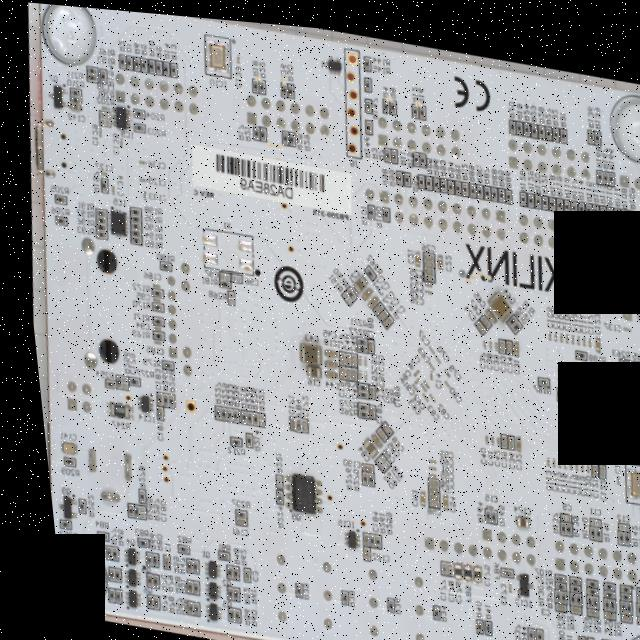-component text- -PE9AH FDS 9926A-: (284, 475, 302, 504)
-component text- R005: (104, 402, 116, 412)
-ferrite bead- FB4: (285, 411, 292, 425)
-ferrite bead- FB5: (448, 551, 461, 575)
-ferrite bead- FB6: (489, 559, 499, 567)
-test point- J11: (175, 395, 188, 410)
2000: (357, 465, 363, 478)
2001: (352, 465, 358, 477)
2002: (120, 374, 130, 382)
2003: (127, 486, 134, 499)
2004: (546, 580, 553, 593)
2005: (535, 114, 542, 126)
2006: (556, 582, 563, 594)
2007: (573, 584, 580, 596)
2008: (596, 588, 603, 600)
2009: (612, 589, 619, 602)
2010: (623, 591, 629, 603)
2016: (285, 126, 291, 138)
2024: (381, 140, 387, 153)
2025: (285, 79, 291, 91)
2031: (557, 118, 563, 130)
2033: (549, 116, 556, 129)
2036: (587, 629, 593, 640)
2041: (419, 598, 425, 610)
2045: (565, 626, 572, 638)
2052: (374, 592, 380, 604)
2061: (514, 619, 520, 631)
2066: (328, 585, 334, 598)
2072: (282, 579, 288, 591)
2080: (380, 92, 386, 104)
2081: (463, 612, 469, 624)
2090: (471, 613, 477, 625)
2100: (573, 626, 580, 639)
2111: (593, 630, 599, 640)
2117: (522, 619, 528, 632)
2137: (179, 556, 185, 569)
2145: (214, 562, 220, 574)
2156: (138, 55, 144, 67)
2161: (179, 578, 185, 590)
2170: (214, 583, 220, 595)
2183: (180, 599, 186, 612)
2185: (214, 604, 220, 616)
2186: (174, 598, 180, 611)
2187: (173, 577, 179, 589)
2188: (173, 555, 179, 568)
2189: (132, 54, 138, 66)
2190: (220, 605, 226, 617)
2191: (220, 584, 226, 596)
2192: (219, 563, 225, 575)
2195: (98, 545, 105, 557)
2196: (132, 550, 139, 563)
2199: (101, 566, 107, 579)
2200: (387, 141, 393, 154)
2201: (133, 571, 140, 584)
2204: (101, 588, 108, 600)
2205: (133, 592, 140, 605)
2206: (94, 587, 101, 599)
2207: (95, 565, 101, 578)
2208: (92, 544, 99, 557)
2209: (139, 593, 146, 606)
2210: (138, 572, 145, 584)
2211: (387, 93, 393, 105)
2212: (139, 551, 145, 563)
2213: (205, 548, 216, 555)
2214: (166, 542, 176, 549)
2215: (125, 536, 135, 544)
2216: (85, 530, 95, 538)
2217: (494, 178, 501, 191)
2218: (500, 180, 507, 192)
2219: (479, 176, 486, 189)
2220: (486, 177, 493, 190)
2221: (465, 174, 472, 186)
2222: (153, 57, 159, 70)
2223: (472, 175, 479, 188)
2224: (450, 172, 457, 185)
2225: (457, 173, 464, 186)
2226: (436, 170, 442, 182)
2227: (444, 171, 449, 184)
2228: (421, 168, 427, 180)
2229: (429, 169, 435, 181)
2230: (414, 167, 420, 179)
2231: (392, 164, 398, 176)
2232: (400, 165, 406, 177)
2301: (464, 639, 486, 640)
2502: (306, 200, 344, 214)
2521: (187, 183, 210, 194)
2688: (443, 635, 460, 640)
2844: (151, 538, 159, 549)
2845: (603, 445, 611, 461)
2848: (548, 356, 567, 367)
2849: (582, 403, 592, 425)
2850: (576, 401, 586, 425)
2851: (538, 295, 547, 317)
2852: (543, 296, 553, 318)
2853: (549, 296, 559, 318)
2854: (555, 297, 565, 320)
2855: (560, 298, 570, 320)
2856: (577, 495, 591, 505)
2857: (566, 299, 576, 322)
2858: (572, 301, 582, 323)
2859: (578, 301, 588, 324)
2860: (534, 459, 543, 479)
2861: (539, 460, 549, 480)
2862: (544, 461, 554, 481)
2863: (550, 462, 560, 482)
2864: (556, 462, 565, 483)
2865: (561, 463, 571, 484)
2866: (567, 464, 576, 485)
2867: (605, 501, 619, 511)
2868: (573, 463, 583, 486)
2869: (579, 466, 589, 487)
2870: (587, 467, 597, 489)
2871: (585, 300, 595, 323)
2875: (89, 158, 109, 170)
2876: (143, 172, 162, 182)
2877: (86, 120, 97, 144)
2882: (143, 187, 161, 198)
2883: (111, 171, 121, 194)
2884: (106, 128, 117, 152)
2885: (143, 155, 162, 165)
2886: (595, 309, 614, 319)
2887: (93, 79, 113, 89)
2888: (232, 59, 241, 83)
2889: (426, 363, 435, 380)
2891: (48, 429, 67, 440)
2892: (63, 109, 83, 121)
2900: (472, 483, 488, 493)
2911: (298, 370, 312, 380)
2913: (219, 522, 237, 532)
2922: (328, 325, 337, 342)
2924: (277, 388, 287, 408)
2925: (291, 388, 300, 411)
2926: (484, 573, 495, 596)
2927: (501, 494, 521, 505)
2928: (469, 554, 479, 577)
2929: (439, 572, 450, 596)
2930: (424, 569, 435, 593)
2931: (432, 569, 443, 594)
2932: (118, 349, 128, 372)
2933: (314, 330, 330, 340)
2934: (146, 496, 156, 519)
2935: (144, 417, 155, 438)
2936: (358, 544, 378, 555)
2937: (144, 364, 153, 387)
2938: (358, 502, 369, 525)
2939: (136, 341, 156, 352)
2940: (136, 266, 155, 277)
2941: (365, 394, 375, 417)
2942: (358, 308, 368, 331)
2943: (383, 377, 393, 400)
2944: (329, 373, 337, 390)
2945: (331, 450, 351, 462)
2955: (238, 564, 246, 577)
2956: (368, 346, 377, 364)
2967: (401, 240, 409, 256)
2978: (438, 244, 447, 263)
2989: (402, 273, 418, 282)
3000: (403, 266, 417, 275)
3011: (402, 258, 418, 268)
3021: (415, 233, 431, 243)
3027: (407, 319, 424, 337)
3036: (402, 287, 418, 297)
3047: (402, 280, 418, 289)
3057: (526, 597, 538, 606)
3069: (505, 347, 513, 364)
3079: (504, 442, 513, 461)
3089: (490, 344, 500, 363)
3100: (497, 344, 506, 363)
3111: (489, 439, 499, 457)
3120: (497, 440, 506, 459)
3127: (470, 341, 479, 359)
3135: (477, 343, 485, 359)
3145: (483, 343, 493, 362)
3154: (469, 436, 478, 455)
3157: (476, 440, 484, 456)
3168: (482, 438, 492, 457)
3178: (296, 326, 311, 336)
3182: (315, 373, 330, 383)
3183: (314, 322, 330, 332)
3184: (341, 327, 349, 344)
3185: (341, 374, 350, 393)
3186: (334, 326, 343, 343)
3187: (334, 373, 344, 392)
3189: (361, 345, 370, 361)
3190: (369, 365, 377, 379)
3191: (361, 362, 370, 379)
3192: (399, 481, 408, 498)
3193: (436, 486, 446, 504)
3194: (428, 462, 444, 471)
3195: (429, 469, 444, 478)
3196: (429, 476, 444, 485)
3197: (414, 497, 430, 507)
3198: (428, 440, 444, 450)
3200: (428, 448, 443, 457)
3201: (430, 455, 444, 464)
3202: (402, 385, 418, 402)
3203: (398, 389, 413, 407)
3204: (495, 276, 509, 294)
3205: (466, 281, 480, 299)
3206: (371, 438, 385, 456)
3207: (462, 288, 475, 306)
3208: (380, 427, 395, 445)
3209: (409, 337, 423, 355)
3210: (638, 554, 640, 564)
3211: (427, 336, 443, 354)
3212: (341, 259, 355, 277)
3213: (365, 265, 380, 283)
3214: (370, 271, 385, 289)
3215: (455, 294, 470, 312)
3216: (384, 294, 400, 312)
3217: (378, 286, 395, 305)
3218: (374, 281, 389, 297)
3219: (398, 345, 413, 362)
3220: (440, 354, 454, 372)
3221: (639, 604, 640, 615)
3222: (439, 376, 454, 394)
3223: (393, 372, 407, 387)
3224: (426, 393, 441, 411)
3225: (416, 395, 431, 412)
3227: (376, 432, 390, 450)
3228: (390, 359, 404, 377)
3232: (550, 491, 561, 501)
3237: (127, 317, 143, 327)
3238: (128, 288, 144, 298)
3239: (237, 271, 253, 281)
3240: (197, 263, 213, 273)
3246: (448, 63, 492, 104)
3269: (318, 52, 327, 62)
3297: (234, 170, 290, 193)
3365: (285, 392, 293, 409)
3366: (450, 575, 460, 594)
3367: (479, 552, 489, 571)
3456: (206, 72, 226, 84)
3459: (500, 587, 520, 598)
3460: (127, 410, 146, 420)
3461: (325, 511, 343, 522)
3466: (626, 493, 640, 504)
3474: (107, 193, 123, 204)
3478: (116, 125, 131, 135)
3517: (344, 151, 356, 161)
3753: (188, 545, 198, 555)
3755: (207, 573, 219, 583)
3756: (207, 594, 219, 604)
3757: (112, 534, 123, 544)
3758: (126, 561, 138, 571)
3759: (128, 582, 140, 591)
3760: (45, 71, 56, 81)
3761: (278, 506, 289, 515)
3762: (48, 484, 60, 494)
3766: (123, 39, 131, 49)
3767: (146, 35, 155, 54)
3768: (369, 197, 378, 220)
3769: (354, 197, 363, 218)
3770: (635, 564, 640, 576)
3771: (635, 514, 640, 526)
3772: (589, 606, 609, 618)
3773: (568, 604, 588, 615)
3774: (542, 601, 562, 612)
3775: (521, 556, 540, 567)
3776: (615, 174, 625, 197)
3777: (623, 173, 632, 196)
3778: (395, 141, 403, 157)
3779: (600, 172, 610, 193)
3780: (608, 175, 618, 194)
3781: (587, 170, 596, 190)
3782: (594, 171, 603, 192)
3783: (572, 167, 582, 188)
3784: (580, 169, 590, 189)
3785: (558, 165, 568, 186)
3786: (566, 166, 576, 187)
3787: (544, 162, 553, 184)
3788: (551, 164, 560, 185)
3789: (409, 76, 417, 93)
3790: (529, 160, 539, 184)
3791: (536, 162, 545, 183)
3792: (635, 573, 640, 584)
3793: (635, 522, 640, 533)
3794: (588, 614, 608, 626)
3795: (568, 612, 588, 623)
3796: (541, 609, 561, 620)
3797: (521, 564, 541, 575)
3798: (514, 158, 524, 181)
3799: (522, 158, 532, 181)
3800: (167, 38, 176, 56)
3801: (522, 572, 533, 596)
3802: (550, 623, 560, 640)
3804: (609, 631, 621, 640)
3805: (636, 531, 640, 554)
3807: (584, 94, 594, 116)
3808: (538, 500, 548, 523)
3809: (559, 503, 569, 526)
3810: (590, 93, 600, 116)
3811: (160, 37, 169, 56)
3812: (568, 505, 578, 527)
3813: (590, 509, 600, 530)
3814: (618, 511, 628, 535)
3815: (625, 512, 635, 536)
3816: (370, 46, 390, 59)
3817: (369, 56, 389, 67)
3818: (358, 126, 368, 150)
3819: (367, 87, 377, 111)
3822: (402, 142, 411, 159)
3823: (324, 259, 344, 281)
3824: (320, 266, 339, 286)
3825: (370, 455, 390, 477)
3826: (94, 51, 113, 63)
3827: (103, 61, 113, 82)
3828: (512, 294, 530, 316)
3831: (506, 287, 525, 309)
3833: (415, 78, 424, 94)
3834: (375, 461, 395, 483)
3835: (96, 44, 114, 54)
3838: (464, 491, 473, 513)
3839: (485, 494, 495, 517)
3840: (604, 135, 613, 157)
3841: (597, 134, 607, 157)
3842: (591, 133, 600, 156)
3843: (123, 325, 143, 336)
3844: (233, 117, 242, 135)
3845: (124, 295, 144, 306)
3846: (125, 308, 142, 318)
3847: (124, 278, 143, 289)
3854: (133, 353, 153, 364)
3855: (249, 53, 258, 71)
3856: (149, 249, 170, 259)
3857: (195, 271, 212, 281)
3860: (596, 405, 606, 427)
3861: (589, 404, 599, 426)
3862: (550, 392, 559, 414)
3863: (523, 373, 543, 384)
3864: (579, 341, 599, 352)
3865: (138, 235, 158, 246)
3866: (513, 91, 522, 110)
3867: (138, 218, 158, 229)
3868: (71, 198, 89, 208)
3869: (70, 205, 90, 217)
3870: (70, 222, 90, 233)
3871: (138, 226, 158, 238)
3872: (138, 209, 158, 220)
3873: (70, 213, 89, 224)
3874: (87, 168, 97, 190)
3875: (138, 201, 157, 212)
3877: (116, 35, 124, 48)
3878: (505, 89, 514, 108)
3880: (93, 86, 112, 96)
3881: (93, 92, 112, 104)
3882: (143, 122, 163, 134)
3883: (142, 107, 162, 118)
3884: (44, 182, 65, 193)
3885: (45, 203, 66, 214)
3888: (49, 464, 69, 476)
3889: (240, 120, 248, 136)
3890: (63, 76, 83, 87)
3891: (64, 67, 81, 77)
3892: (216, 440, 236, 451)
3894: (241, 424, 251, 446)
3898: (228, 380, 238, 403)
3900: (255, 54, 265, 72)
3901: (234, 380, 244, 403)
3902: (263, 446, 273, 468)
3903: (247, 382, 257, 405)
3905: (263, 499, 273, 524)
3907: (240, 381, 250, 405)
3908: (203, 377, 213, 399)
3910: (210, 378, 220, 400)
3911: (527, 93, 536, 112)
3915: (216, 379, 226, 401)
3917: (222, 379, 232, 402)
3918: (219, 493, 239, 504)
3921: (519, 91, 528, 110)
3929: (100, 416, 120, 428)
3932: (292, 125, 301, 143)
3935: (73, 491, 84, 515)
3936: (45, 527, 66, 539)
3937: (85, 366, 106, 377)
3938: (132, 492, 142, 516)
3939: (113, 347, 123, 371)
3940: (139, 493, 150, 519)
3941: (157, 365, 167, 388)
3942: (372, 503, 382, 527)
3943: (277, 56, 286, 75)
3944: (151, 364, 160, 387)
3945: (365, 504, 375, 526)
3946: (359, 245, 379, 268)
3947: (603, 335, 623, 347)
3948: (605, 380, 615, 404)
3949: (624, 338, 640, 350)
3950: (628, 414, 640, 425)
3952: (201, 284, 221, 296)
3953: (329, 398, 349, 410)
3954: (541, 94, 550, 113)
3955: (329, 390, 348, 402)
3956: (342, 309, 361, 320)
3957: (340, 318, 360, 329)
3958: (367, 386, 386, 397)
3959: (365, 378, 385, 389)
3960: (340, 460, 350, 485)
3961: (333, 459, 343, 484)
3962: (126, 364, 146, 375)
3963: (125, 461, 136, 485)
3964: (532, 574, 542, 599)
3965: (534, 93, 544, 113)
3966: (542, 618, 552, 640)
3968: (615, 629, 629, 640)
3970: (637, 581, 640, 605)
3976: (299, 126, 308, 145)
3985: (367, 138, 375, 151)
3986: (283, 57, 293, 76)
3993: (556, 99, 565, 116)
3997: (548, 96, 558, 115)
4006: (425, 595, 434, 614)
4018: (379, 589, 389, 607)
4027: (498, 613, 508, 632)
4032: (333, 582, 343, 601)
4038: (288, 576, 297, 594)
4046: (379, 77, 387, 89)
4047: (460, 590, 470, 610)
4056: (470, 594, 478, 611)
4083: (505, 614, 515, 633)
4103: (164, 552, 173, 571)
4111: (219, 542, 228, 560)
4122: (138, 38, 146, 51)
4128: (165, 574, 174, 591)
4137: (228, 582, 237, 600)
4152: (165, 593, 175, 612)
4153: (228, 602, 238, 621)
4154: (159, 592, 169, 611)
4155: (159, 572, 169, 590)
4156: (158, 551, 167, 569)
4157: (131, 38, 139, 50)
4158: (235, 604, 244, 623)
4159: (236, 583, 244, 600)
4160: (226, 543, 235, 561)
4163: (103, 524, 113, 544)
4164: (135, 528, 145, 547)
4167: (87, 561, 96, 582)
4168: (373, 139, 381, 152)
4169: (145, 569, 155, 588)
4172: (78, 585, 91, 606)
4173: (146, 590, 155, 609)
4174: (69, 584, 83, 606)
4175: (80, 557, 92, 583)
4176: (95, 523, 106, 543)
4177: (153, 591, 162, 610)
4178: (152, 570, 161, 588)
4179: (386, 78, 394, 90)
4180: (142, 529, 152, 548)
4181: (204, 538, 219, 548)
4182: (164, 530, 179, 541)
4183: (121, 525, 137, 535)
4184: (81, 517, 97, 527)
4185: (493, 158, 502, 177)
4186: (499, 159, 509, 178)
4187: (478, 156, 488, 174)
4188: (486, 157, 495, 175)
4189: (463, 153, 472, 172)
4190: (153, 41, 161, 54)
4191: (472, 156, 480, 173)
4192: (450, 154, 458, 170)
4193: (456, 152, 466, 171)
4194: (434, 149, 444, 167)
4195: (442, 151, 452, 169)
4196: (421, 147, 430, 165)
4197: (427, 148, 437, 166)
4198: (406, 165, 415, 183)
4199: (376, 159, 385, 177)
4200: (383, 160, 392, 178)
4405: (216, 215, 226, 225)
4415: (455, 231, 562, 285)
4435: (273, 266, 291, 288)
4440: (190, 556, 208, 575)
4443: (190, 577, 209, 596)
4444: (189, 598, 208, 617)
4445: (110, 544, 128, 563)
4447: (110, 565, 128, 584)
4448: (110, 586, 128, 606)
4449: (43, 82, 66, 108)
4450: (270, 466, 314, 510)
4451: (44, 492, 67, 519)
capacitor C10: (150, 552, 157, 565)
capacitor C100: (606, 465, 610, 473)
capacitor C103: (551, 365, 557, 371)
capacitor C104: (584, 389, 591, 402)
capacitor C105: (580, 391, 585, 399)
capacitor C106: (540, 321, 544, 329)
capacitor C107: (546, 322, 550, 330)
capacitor C108: (551, 323, 556, 332)
capacitor C109: (557, 324, 562, 332)
capacitor C11: (563, 325, 568, 333)
capacitor C111: (569, 326, 574, 333)
capacitor C112: (575, 327, 579, 334)
capacitor C113: (580, 327, 585, 335)
capacitor C114: (535, 448, 540, 456)
capacitor C115: (541, 448, 546, 457)
capacitor C116: (547, 449, 552, 458)
capacitor C117: (552, 450, 557, 459)
capacitor C118: (557, 451, 563, 459)
capacitor C119: (563, 452, 569, 460)
capacitor C12: (569, 453, 575, 461)
capacitor C121: (575, 453, 580, 462)
capacitor C122: (581, 453, 587, 464)
capacitor C123: (589, 454, 595, 465)
capacitor C124: (586, 324, 595, 342)
capacitor C128: (96, 168, 103, 173)
capacitor C129: (134, 173, 140, 179)
capacitor C13: (94, 126, 99, 135)
capacitor C134: (137, 187, 143, 195)
capacitor C135: (105, 182, 111, 190)
capacitor C136: (114, 136, 120, 144)
capacitor C137: (134, 156, 140, 161)
capacitor C138: (615, 313, 622, 319)
capacitor C139: (98, 102, 105, 107)
capacitor C140: (420, 363, 426, 372)
capacitor C142: (48, 439, 67, 453)
capacitor C143: (65, 100, 79, 108)
capacitor C150: (476, 495, 482, 500)
capacitor C160: (296, 358, 314, 372)
capacitor C162: (224, 512, 234, 520)
capacitor C170: (330, 345, 337, 358)
capacitor C172: (280, 412, 286, 423)
capacitor C173: (291, 413, 297, 424)
capacitor C174: (495, 573, 499, 581)
capacitor C175: (502, 504, 520, 519)
capacitor C176: (457, 553, 471, 577)
capacitor C1767: (438, 550, 451, 573)
capacitor C178: (428, 553, 434, 566)
capacitor C179: (434, 554, 440, 566)
capacitor C180: (315, 352, 330, 361)
capacitor C182: (147, 403, 153, 415)
capacitor C184: (147, 389, 153, 401)
capacitor C185: (351, 526, 358, 539), (350, 540, 357, 552)
capacitor C186: (147, 336, 154, 342)
capacitor C187: (147, 279, 153, 285)
capacitor C188: (359, 398, 366, 411)
capacitor C189: (360, 333, 366, 344)
capacitor C19: (359, 379, 366, 391)
capacitor C190: (331, 359, 338, 372)
capacitor C191: (352, 457, 362, 464)
capacitor C196: (147, 294, 153, 299)
capacitor C20: (230, 563, 237, 576)
capacitor C200: (355, 351, 359, 359)
capacitor C210: (407, 241, 416, 259)
capacitor C220: (429, 244, 439, 262)
capacitor C230: (418, 266, 427, 273)
capacitor C240: (418, 258, 428, 266)
capacitor C250: (418, 251, 428, 259)
capacitor C260: (418, 244, 428, 251)
capacitor C270: (421, 338, 428, 347)
capacitor C280: (419, 280, 427, 287)
capacitor C290: (420, 274, 426, 279)
capacitor C30: (542, 593, 553, 600)
capacitor C310: (504, 329, 513, 348)
capacitor C321: (503, 423, 513, 442)
capacitor C330: (491, 330, 497, 342)
capacitor C340: (497, 331, 504, 341)
capacitor C350: (491, 425, 497, 437)
capacitor C362: (498, 426, 504, 438)
capacitor C370: (474, 329, 479, 337)
capacitor C380: (479, 330, 485, 338)
capacitor C390: (485, 331, 491, 339)
capacitor C40: (557, 595, 567, 603)
capacitor C400: (474, 424, 479, 433)
capacitor C418: (480, 425, 485, 434)
capacitor C420: (485, 426, 491, 434)
capacitor C430: (289, 335, 315, 359)
capacitor C45: (315, 363, 331, 372)
capacitor C46: (315, 342, 330, 351)
capacitor C47: (342, 347, 349, 359)
capacitor C48: (342, 361, 349, 373)
capacitor C49: (336, 346, 343, 359)
capacitor C5: (337, 360, 344, 373)
capacitor C50: (574, 597, 584, 605)
capacitor C51: (349, 350, 354, 358)
capacitor C52: (355, 365, 360, 373)
capacitor C53: (350, 364, 355, 372)
capacitor C54: (407, 481, 416, 499)
capacitor C55: (430, 484, 438, 502)
capacitor C56: (418, 470, 427, 478)
capacitor C57: (418, 478, 427, 484)
capacitor C58: (419, 484, 427, 492)
capacitor C59: (418, 491, 427, 499)
capacitor C6: (419, 450, 425, 456)
capacitor C60: (591, 600, 601, 607)
capacitor C61: (419, 457, 426, 462)
capacitor C62: (419, 463, 426, 469)
capacitor C63: (414, 372, 422, 380)
capacitor C64: (412, 376, 419, 384)
capacitor C65: (476, 276, 510, 315)
capacitor C66: (476, 296, 492, 315)
capacitor C67: (358, 423, 375, 441)
capacitor C68: (472, 305, 483, 319)
capacitor C69: (372, 415, 382, 428)
capacitor C7: (420, 354, 428, 362)
capacitor C70: (607, 602, 618, 609)
capacitor C71: (427, 347, 434, 355)
capacitor C72: (343, 265, 365, 288)
capacitor C73: (352, 277, 368, 295)
capacitor C74: (358, 284, 374, 304)
capacitor C75: (468, 311, 479, 324)
capacitor C76: (376, 307, 387, 320)
capacitor C77: (371, 300, 382, 314)
capacitor C78: (366, 296, 376, 307)
capacitor C79: (405, 359, 412, 368)
capacitor C8: (436, 360, 443, 369)
capacitor C80: (624, 604, 634, 612)
capacitor C82: (402, 374, 410, 382)
capacitor C83: (420, 386, 428, 394)
capacitor C84: (413, 385, 421, 393)
capacitor C85: (349, 428, 370, 452)
capacitor C86: (365, 420, 377, 434)
capacitor C87: (405, 367, 412, 376)
capacitor C95: (147, 322, 153, 327)
connector J9: (335, 41, 365, 149)
connector USB: (25, 113, 55, 178)
diode D10: (324, 47, 341, 68)
ic IC10: (202, 33, 230, 69)
ic IC13 -426 LGZ-: (500, 561, 522, 587)
ic IC14: (127, 391, 145, 410)
ic IC15: (330, 523, 349, 543)
ic IC2 -CU384C 08KG4 3SZ1-: (613, 454, 640, 489)
ic IC5: (101, 203, 125, 236)
ic IC9: (106, 102, 131, 127)
pads C11: (578, 507, 589, 514)
pads C12: (607, 511, 618, 519)
pads C179: (112, 373, 118, 386)
pads C180: (128, 503, 134, 515)
pads C9: (549, 503, 560, 510)
pads C96: (224, 269, 235, 277)
pads C97: (213, 267, 224, 275)
pads R151: (335, 284, 346, 296)
pads R152: (365, 447, 376, 459)
pads R160: (369, 452, 379, 465)
pads R201: (96, 108, 107, 116)
pads R202: (96, 116, 107, 123)
pads R221: (265, 469, 271, 482)
pads R222: (248, 408, 254, 420)
pads R268: (221, 286, 227, 299)
pads x1: (193, 222, 251, 271)
pins UNKNOWN: (357, 178, 505, 232), (510, 199, 629, 251), (407, 507, 527, 558), (538, 526, 628, 573), (240, 86, 329, 131), (110, 67, 199, 112), (372, 106, 460, 151), (501, 126, 590, 170), (71, 441, 127, 503), (153, 269, 177, 357), (257, 545, 279, 619), (395, 566, 417, 639), (349, 559, 371, 632), (303, 554, 325, 627), (610, 359, 640, 412), (53, 376, 86, 412), (170, 255, 187, 289), (170, 340, 186, 374), (613, 294, 640, 312), (614, 161, 640, 178)
pins unknown: (62, 230, 102, 371)
resistor R10: (125, 53, 131, 65)
resistor R100: (147, 56, 153, 69)
resistor R101: (378, 200, 385, 212)
resistor R102: (363, 198, 370, 210)
resistor R103: (624, 576, 634, 583)
resistor R104: (608, 573, 618, 581)
resistor R105: (591, 570, 601, 578)
resistor R106: (574, 568, 584, 576)
resistor R107: (557, 565, 567, 573)
resistor R108: (542, 564, 553, 572)
resistor R109: (617, 197, 623, 210)
resistor R11: (625, 198, 631, 211)
resistor R110: (409, 144, 415, 156)
resistor R111: (602, 195, 609, 207)
resistor R112: (609, 196, 616, 208)
resistor R113: (588, 193, 594, 205)
resistor R114: (594, 194, 601, 206)
resistor R115: (574, 190, 580, 203)
resistor R116: (581, 192, 587, 204)
resistor R117: (560, 188, 566, 201)
resistor R118: (566, 189, 572, 202)
resistor R119: (545, 186, 551, 198)
resistor R12: (552, 187, 558, 200)
resistor R120: (410, 96, 415, 108)
resistor R121: (531, 184, 537, 196)
resistor R122: (537, 185, 543, 198)
resistor R123: (625, 584, 634, 591)
resistor R124: (608, 581, 618, 589)
resistor R125: (591, 578, 602, 586)
resistor R126: (574, 576, 585, 584)
resistor R127: (557, 574, 567, 582)
resistor R128: (542, 572, 553, 580)
resistor R129: (516, 182, 522, 194)
resistor R13: (523, 183, 529, 195)
resistor R130: (168, 59, 174, 71)
resistor R131: (541, 579, 548, 591)
resistor R132: (562, 582, 569, 595)
resistor R133: (579, 585, 586, 597)
resistor R134: (590, 587, 597, 599)
resistor R135: (606, 588, 613, 601)
resistor R136: (628, 592, 635, 604)
resistor R137: (585, 118, 591, 131)
resistor R138: (548, 511, 554, 523)
resistor R139: (591, 119, 597, 132), (554, 512, 560, 524)
resistor R140: (161, 58, 167, 70)
resistor R141: (578, 515, 584, 528)
resistor R142: (584, 516, 589, 528)
resistor R143: (606, 519, 612, 531)
resistor R144: (362, 49, 368, 62)
resistor R144 274: (612, 520, 618, 532)
resistor R146: (362, 113, 369, 126)
resistor R146 339: (362, 71, 369, 83)
resistor R148: (362, 91, 369, 104)
resistor R150: (416, 145, 421, 157)
resistor R151: (339, 281, 350, 292)
resistor R154: (85, 71, 95, 79)
resistor R155: (98, 67, 104, 78)
resistor R156: (504, 311, 514, 322)
resistor R159: (501, 305, 511, 317)
resistor R160: (416, 97, 422, 110)
resistor R162: (84, 64, 95, 71)
resistor R165: (473, 500, 479, 513)
resistor R166: (479, 501, 485, 514)
resistor R167: (604, 160, 610, 172)
resistor R168: (599, 159, 605, 172)
resistor R169: (593, 158, 599, 171)
resistor R17: (146, 328, 155, 335)
resistor R170: (250, 121, 256, 133)
resistor R172: (145, 314, 155, 322)
resistor R173: (145, 285, 155, 293)
resistor R18: (153, 357, 164, 365)
resistor R180: (250, 74, 256, 86)
resistor R181: (153, 258, 164, 266)
resistor R182: (213, 275, 223, 283)
resistor R185: (596, 391, 603, 404)
resistor R186: (590, 390, 597, 403)
resistor R187: (549, 377, 555, 389)
resistor R188: (531, 367, 540, 375)
resistor R189: (569, 340, 577, 347)
resistor R19: (125, 233, 135, 241)
resistor R190: (514, 111, 520, 123)
resistor R191: (125, 219, 135, 226)
resistor R192: (90, 206, 101, 214)
resistor R193: (91, 214, 101, 221)
resistor R194: (90, 228, 101, 236)
resistor R195: (125, 225, 135, 233)
resistor R196: (125, 212, 135, 219)
resistor R197: (91, 221, 101, 228)
resistor R198: (96, 176, 102, 189)
resistor R199: (125, 205, 135, 212)
resistor R20: (118, 51, 124, 64)
resistor R200: (507, 110, 513, 122)
resistor R204: (131, 120, 141, 128)
resistor R205: (130, 106, 141, 114)
resistor R206: (50, 193, 61, 201)
resistor R207: (50, 215, 61, 223)
resistor R21: (54, 456, 63, 464)
resistor R210: (257, 122, 263, 134)
resistor R211: (67, 93, 78, 101)
resistor R212: (68, 86, 78, 94)
resistor R213: (221, 433, 230, 441)
resistor R215: (235, 429, 242, 442)
resistor R219: (231, 405, 237, 418)
resistor R220: (256, 75, 262, 87)
resistor R221: (237, 406, 243, 419)
resistor R226: (264, 484, 272, 499)
resistor R227: (243, 407, 249, 420)
resistor R228: (205, 402, 211, 414)
resistor R23: (211, 403, 217, 415)
resistor R230: (528, 114, 534, 126)
resistor R234: (217, 403, 223, 416)
resistor R237: (222, 404, 228, 417)
resistor R238: (224, 505, 234, 513)
resistor R240: (521, 112, 527, 125)
resistor R248: (95, 396, 125, 417)
resistor R250: (279, 125, 286, 137)
resistor R253: (66, 498, 73, 511)
resistor R254: (47, 519, 58, 527)
resistor R255: (96, 378, 107, 385)
resistor R256: (115, 501, 121, 514)
resistor R257: (106, 373, 113, 384)
resistor R258: (122, 502, 128, 515)
resistor R259: (159, 390, 165, 402)
resistor R26: (363, 527, 369, 540)
resistor R260: (279, 77, 285, 90)
resistor R261: (153, 390, 159, 402)
resistor R262: (357, 527, 363, 539)
resistor R263: (358, 260, 369, 271)
resistor R264: (612, 347, 622, 354)
resistor R265: (608, 406, 614, 419)
resistor R266: (626, 349, 635, 357)
resistor R267: (617, 414, 627, 422)
resistor R27: (349, 403, 359, 410)
resistor R270: (542, 115, 549, 127)
resistor R271: (348, 396, 359, 403)
resistor R272: (349, 330, 359, 337)
resistor R273: (349, 337, 359, 345)
resistor R274: (349, 383, 358, 390)
resistor R275: (349, 376, 359, 384)
